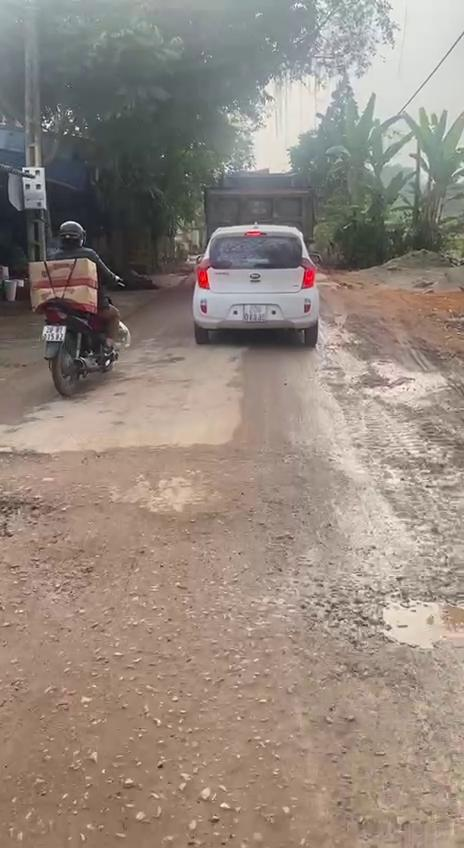pothole: (324, 572, 464, 652), (0, 444, 87, 538)
